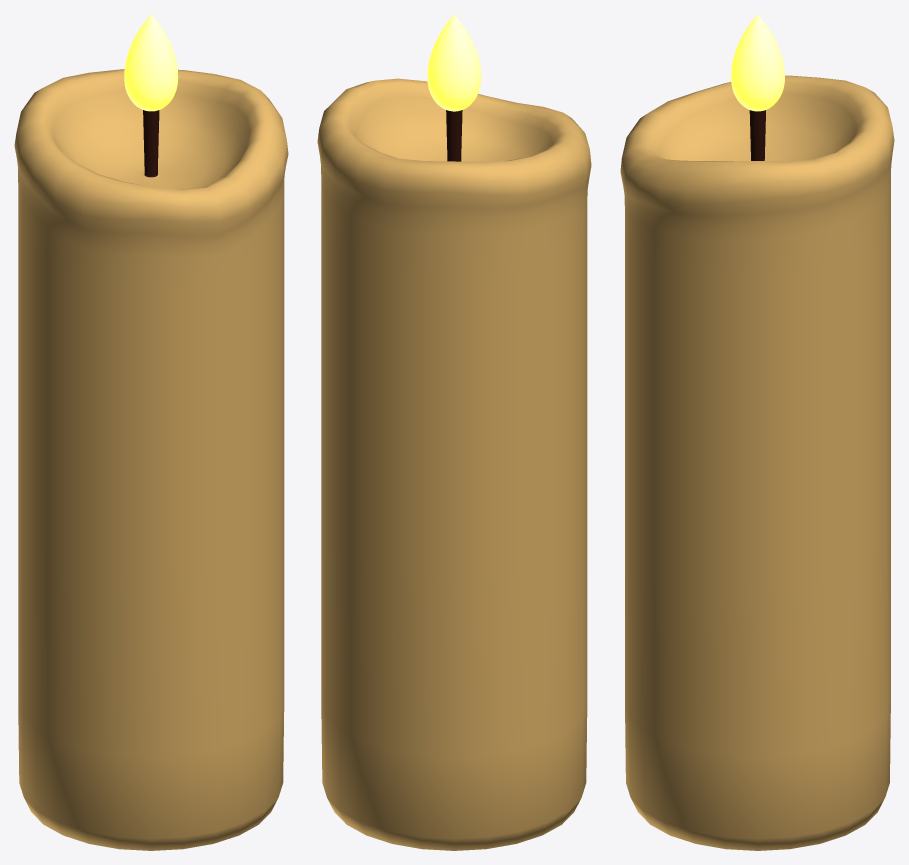
File: Candle_A.fbx
3 views of the same model, side by side, from view 1: azimuth 30°, elevation 25°; view 2: azimuth 150°, elevation 25°; view 3: azimuth 270°, elevation 25° (orthographic).
Parts seen in each view (by area): view 1: Candle_A; view 2: Candle_A; view 3: Candle_A.
Boxes of the visible parts, x1,y1,x2,y2 form: Candle_A: [14, 14, 288, 850]; Candle_A: [317, 14, 591, 850]; Candle_A: [620, 14, 894, 850].
Bounding box in the file's own units: 50.54 × 50.54 × 160.
